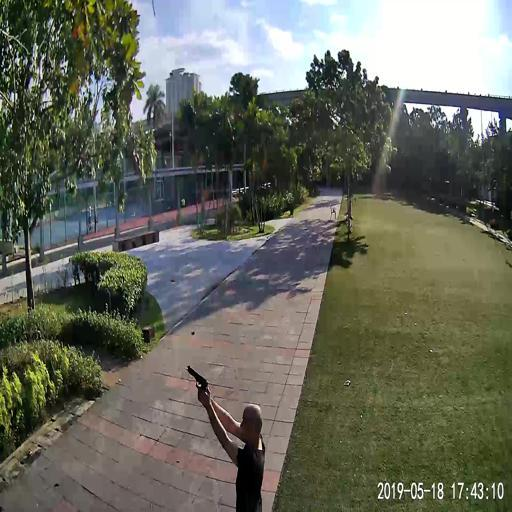Handgun: (185, 362, 208, 392)
